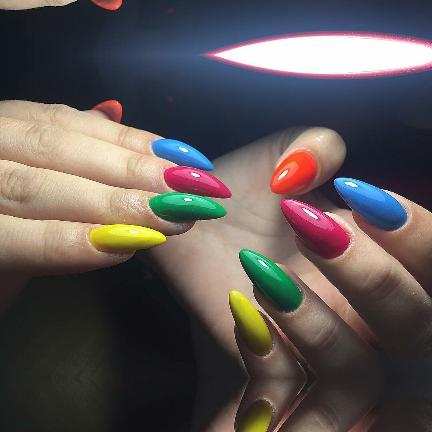Nail: (281, 198, 351, 258), (239, 249, 303, 311), (334, 178, 407, 230), (230, 290, 273, 354), (148, 192, 227, 221), (89, 224, 166, 252), (164, 165, 231, 197), (152, 138, 213, 170), (271, 151, 316, 193), (236, 401, 273, 432), (92, 100, 122, 122), (92, 0, 122, 8)
